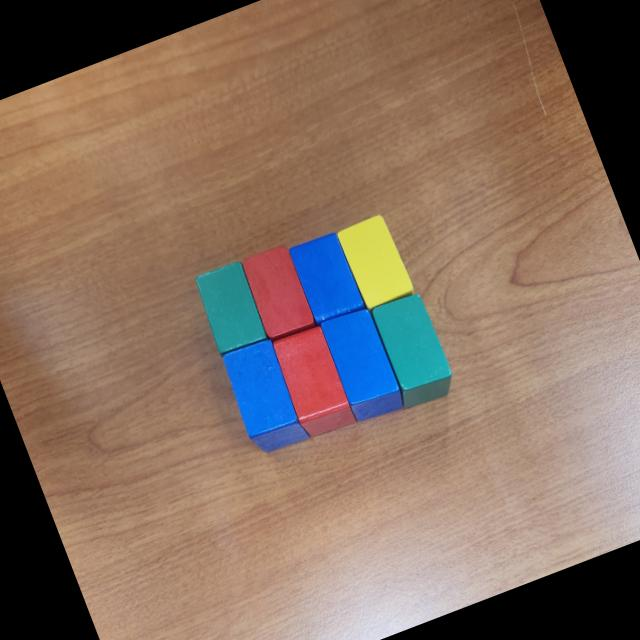blue: (316, 303, 411, 429), (217, 334, 311, 461), (287, 229, 368, 329)
green: (366, 289, 461, 412), (191, 259, 272, 357)
red: (268, 322, 358, 443), (238, 242, 318, 342)
yellow: (336, 212, 416, 311)
